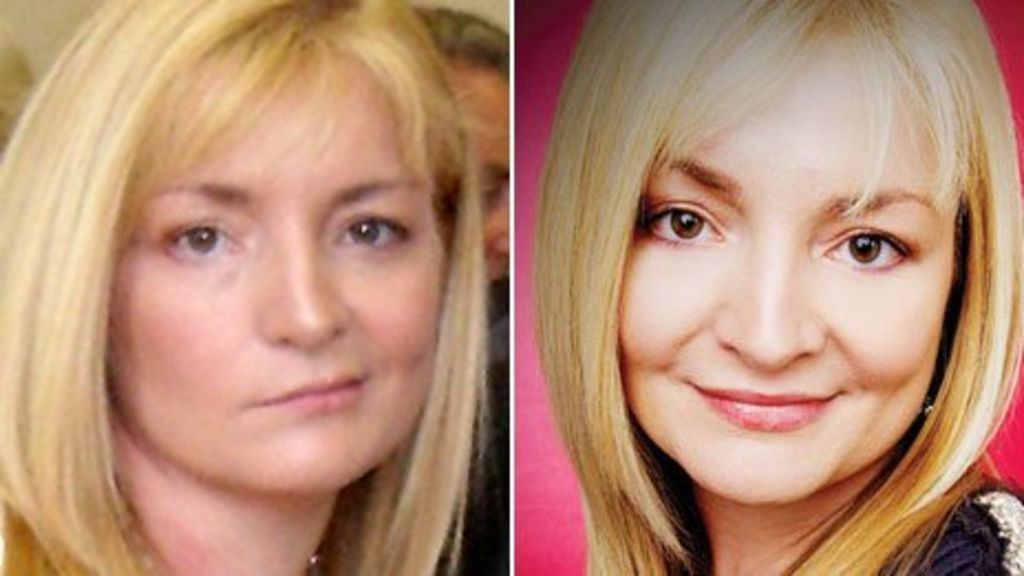stroke: (126, 139, 421, 518)
